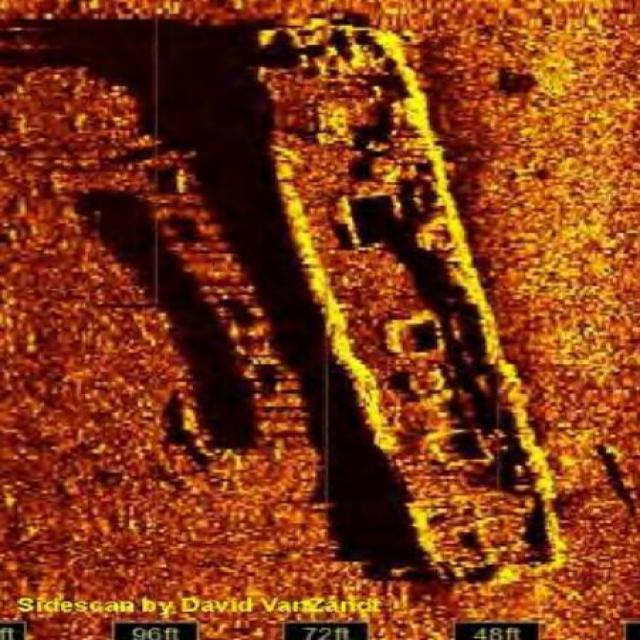ship: (247, 13, 573, 590)
